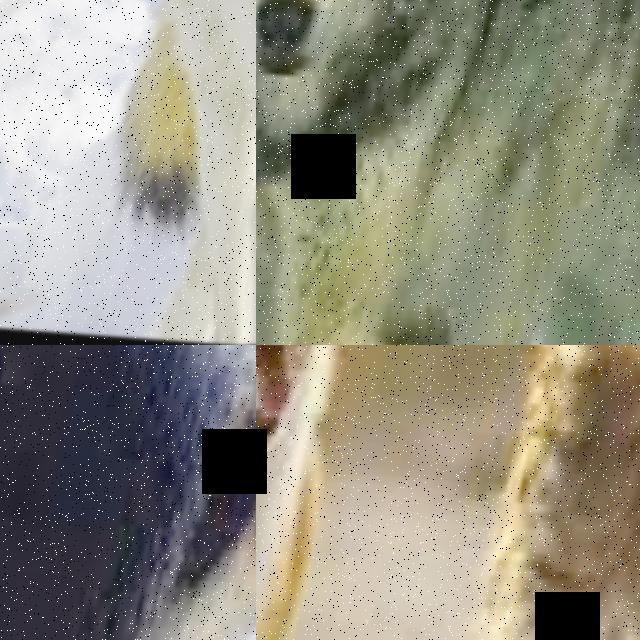dog: (343, 345, 640, 640), (0, 345, 256, 640), (256, 345, 432, 640)
wolf: (256, 0, 640, 345), (429, 0, 640, 345), (65, 0, 256, 345)
